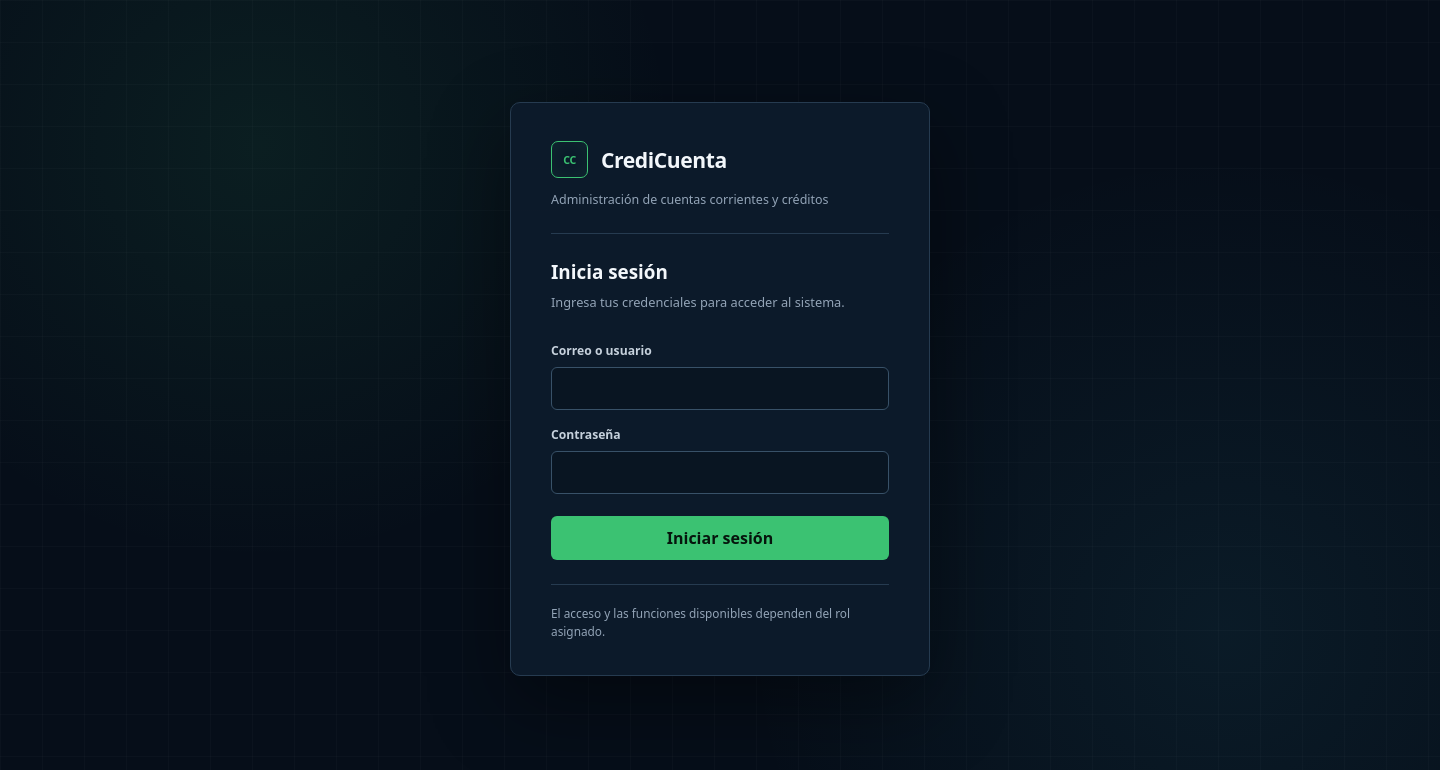
it: App por roles › shows store deactivation errors in the store section
Type "demo@credicuenta.test" into the field labelled "Correo o usuario" at (720, 389), box [551, 367, 889, 410]
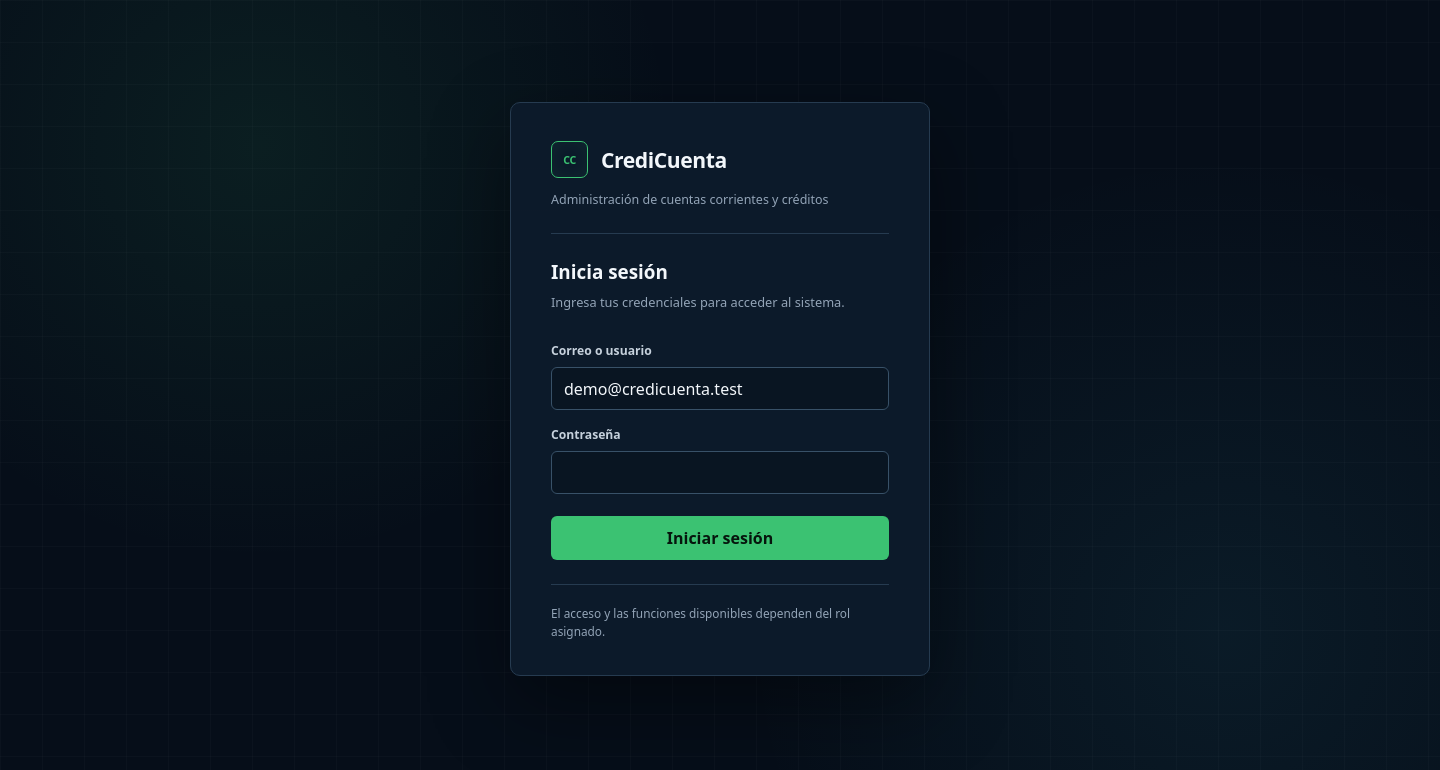
Type "DemoSegura#2026" into the password field labelled "Contraseña" at (720, 473), box [551, 451, 889, 494]
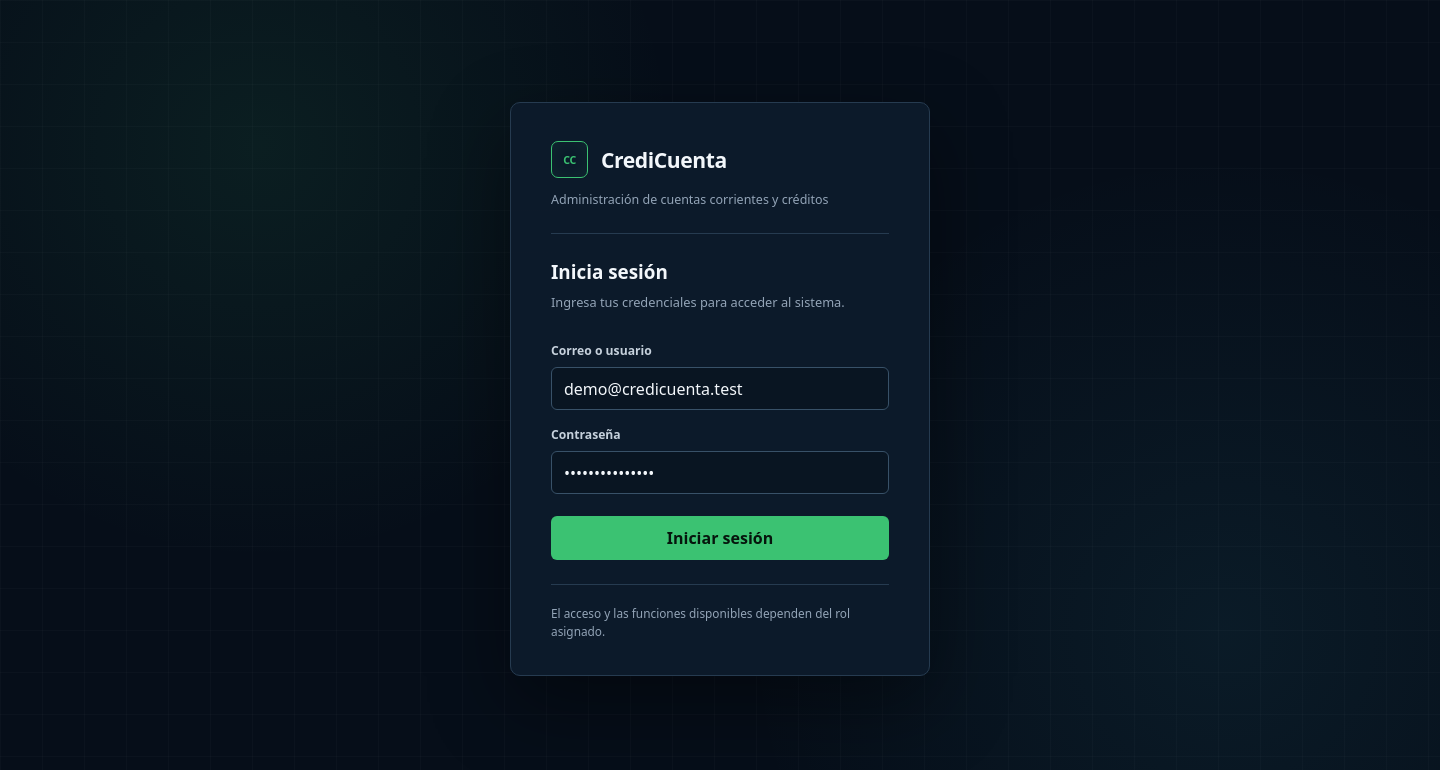
Click the button "Iniciar sesión" at (720, 538), box [551, 516, 889, 560]
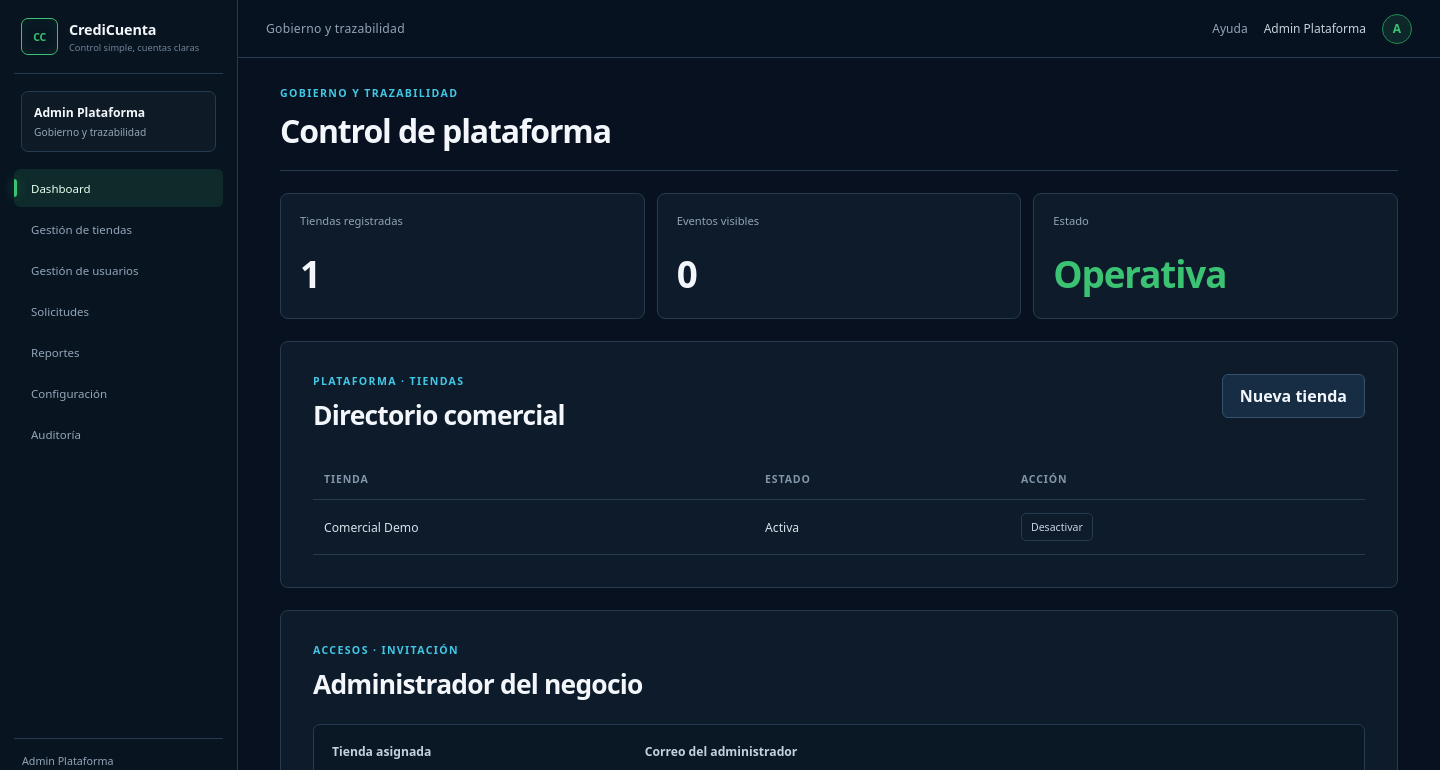
Click the button with aria-label "desactivar comercial demo" at (1057, 527), box [1021, 513, 1093, 541]
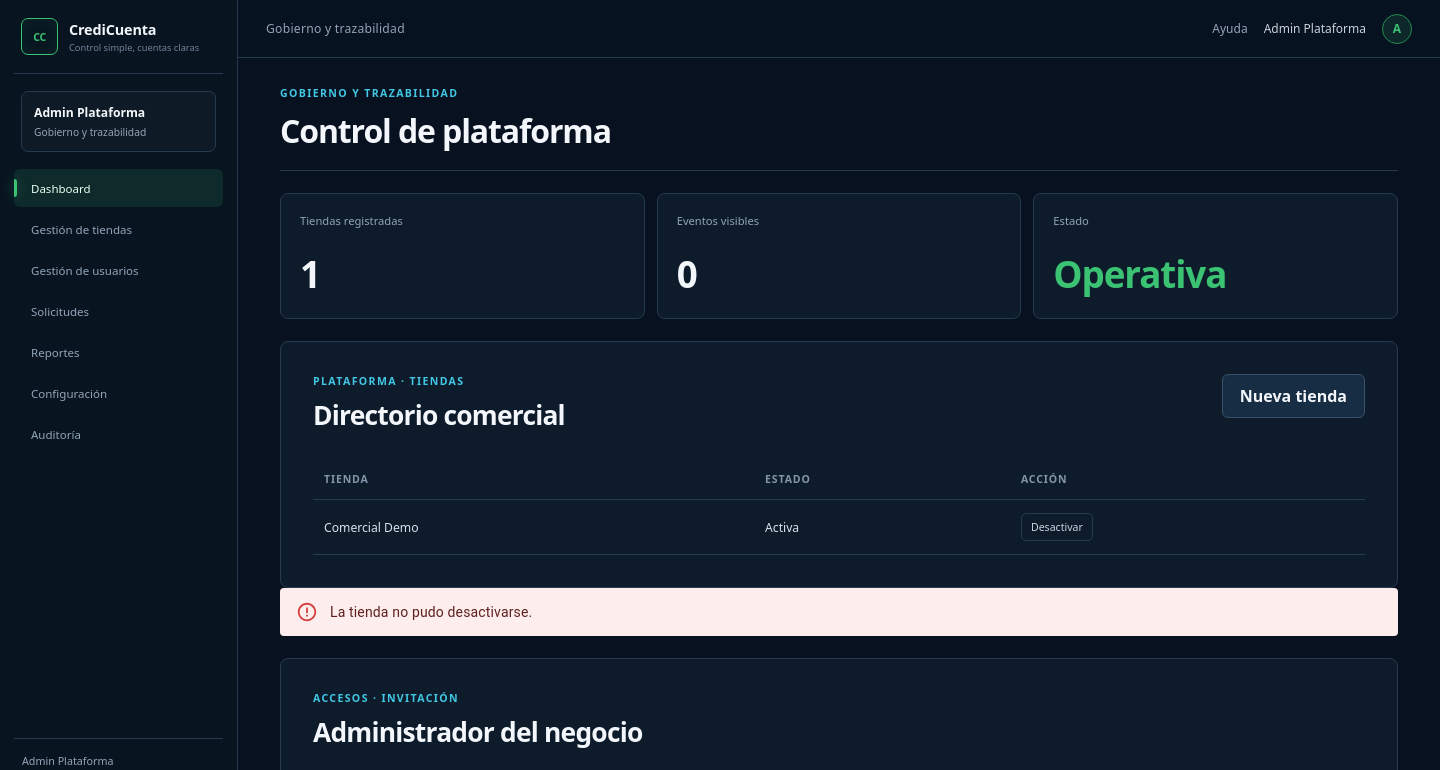
Expected: the text "La tienda no pudo desactivarse." is shown, [330, 604, 532, 620]
